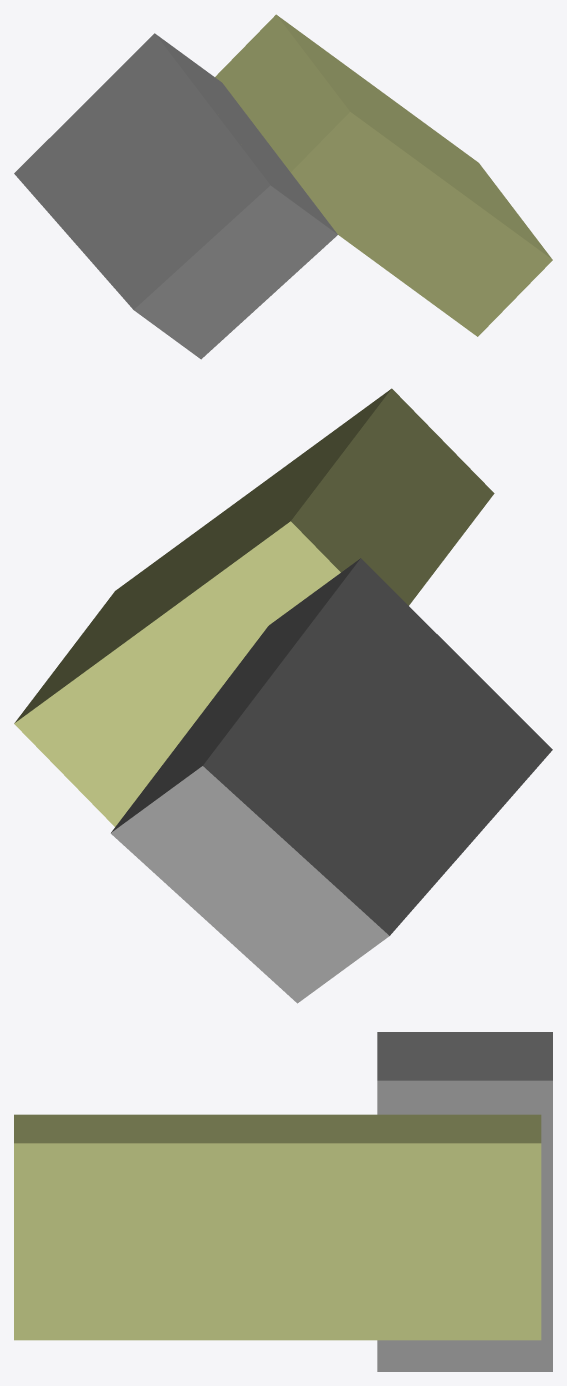
3 renders of one model, top to bottom at view 1: azimuth 30°, elevation 25°; view 2: azimuth 150°, elevation 25°; view 3: azimuth 270°, elevation 25°, orthographic. The views are drawn at different scales.
Parts seen in each view (by area): view 1: 0_1_1_3_2_2_3_2_0_3; view 2: 0_1_1_3_2_2_3_2_0_3; view 3: 0_1_1_3_2_2_3_2_0_3.
Part boxes in pixels (x1,y1,x2,y2): 0_1_1_3_2_2_3_2_0_3: (14,14,552,359); 0_1_1_3_2_2_3_2_0_3: (14,388,552,1003); 0_1_1_3_2_2_3_2_0_3: (14,1032,552,1371).
Bounding box in the file's own units: 8.5 × 6.65 × 9.2.
